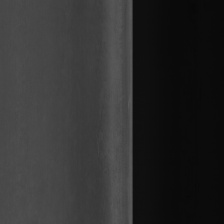silk_spot: (90, 101, 114, 162)
